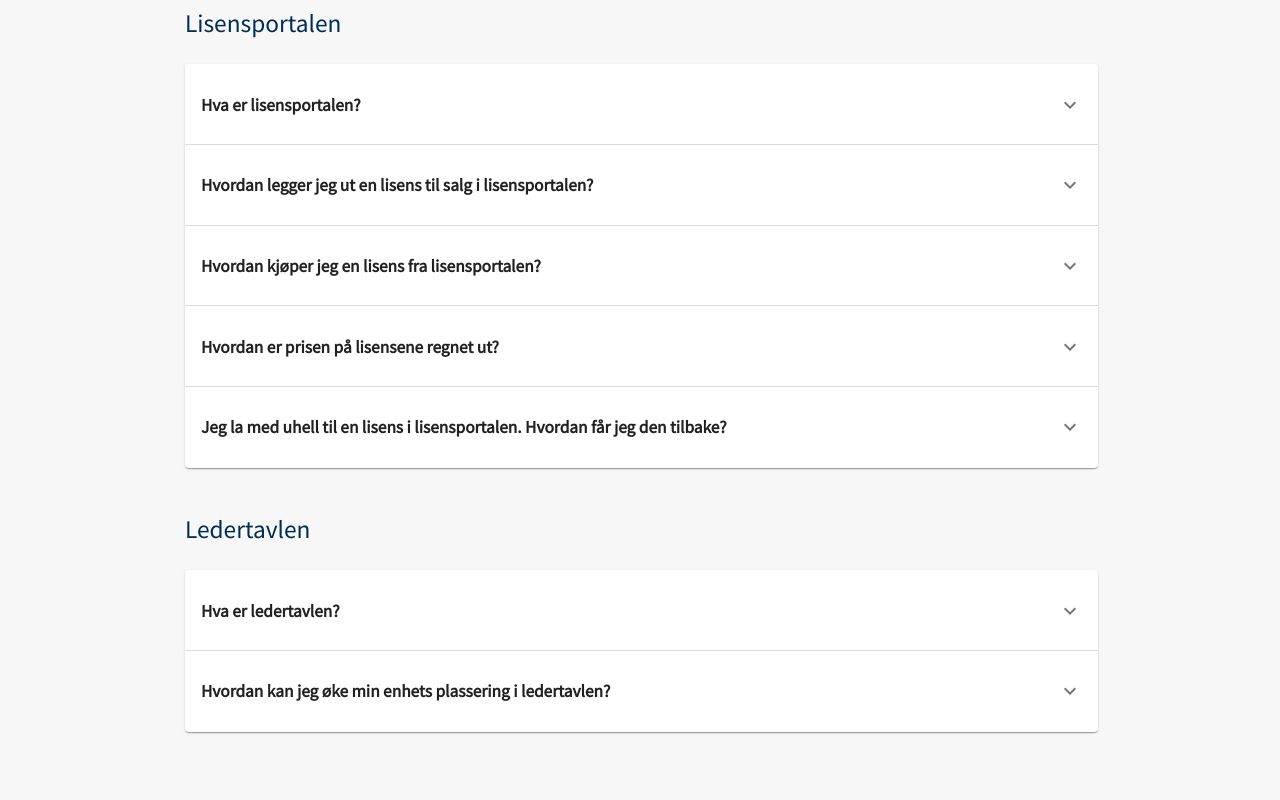
Test: Testing FAQ page › can expand and display answers
This screenshot has width=1280, height=800.
(page scrolled)
Click the button with test id "expandIcon" at [270, 611], box left=201, top=598, right=1082, bottom=622
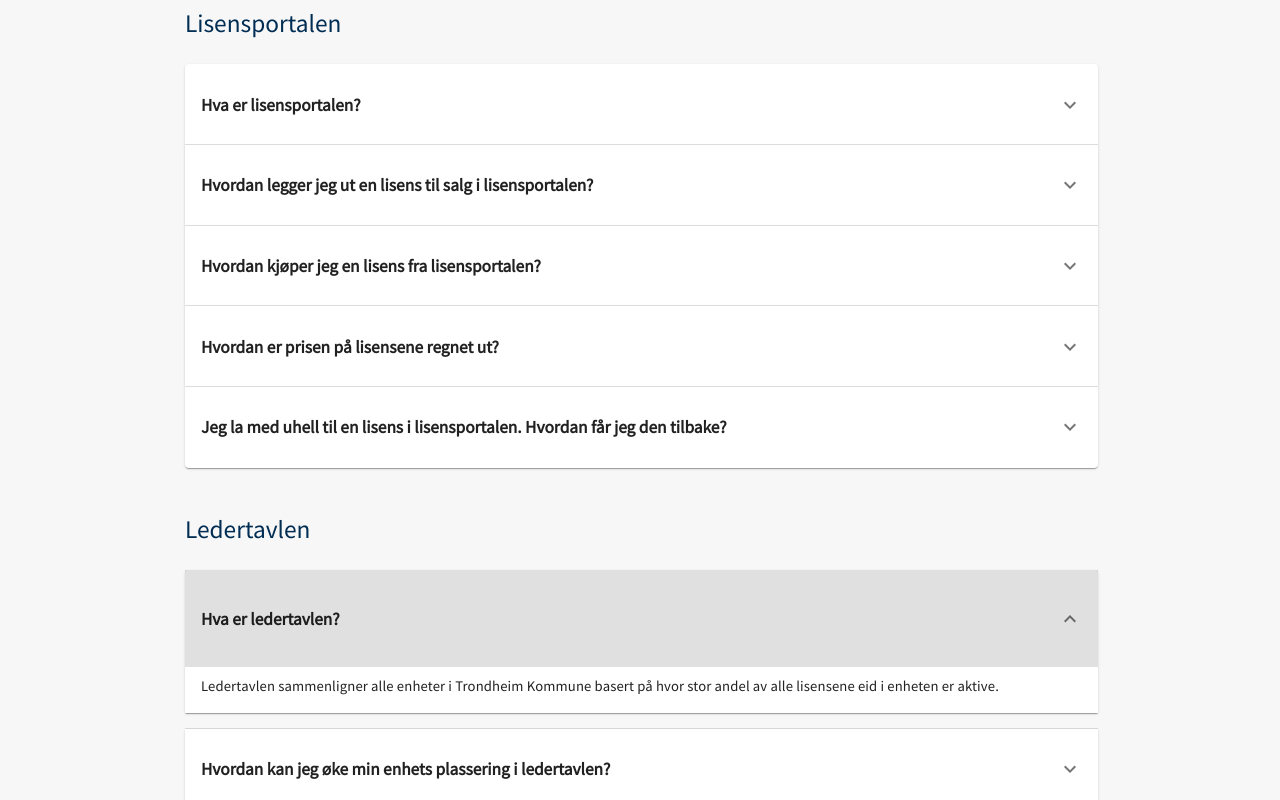
Expected: the text "Hva er ledertavlen?" is shown, left=201, top=608, right=340, bottom=630
Expected: the text "Ledertavlen sammenligner alle enheter i Trondheim Kommune basert på hvor stor andel av alle lisensene eid i enheten er a" is shown, left=201, top=677, right=999, bottom=695
